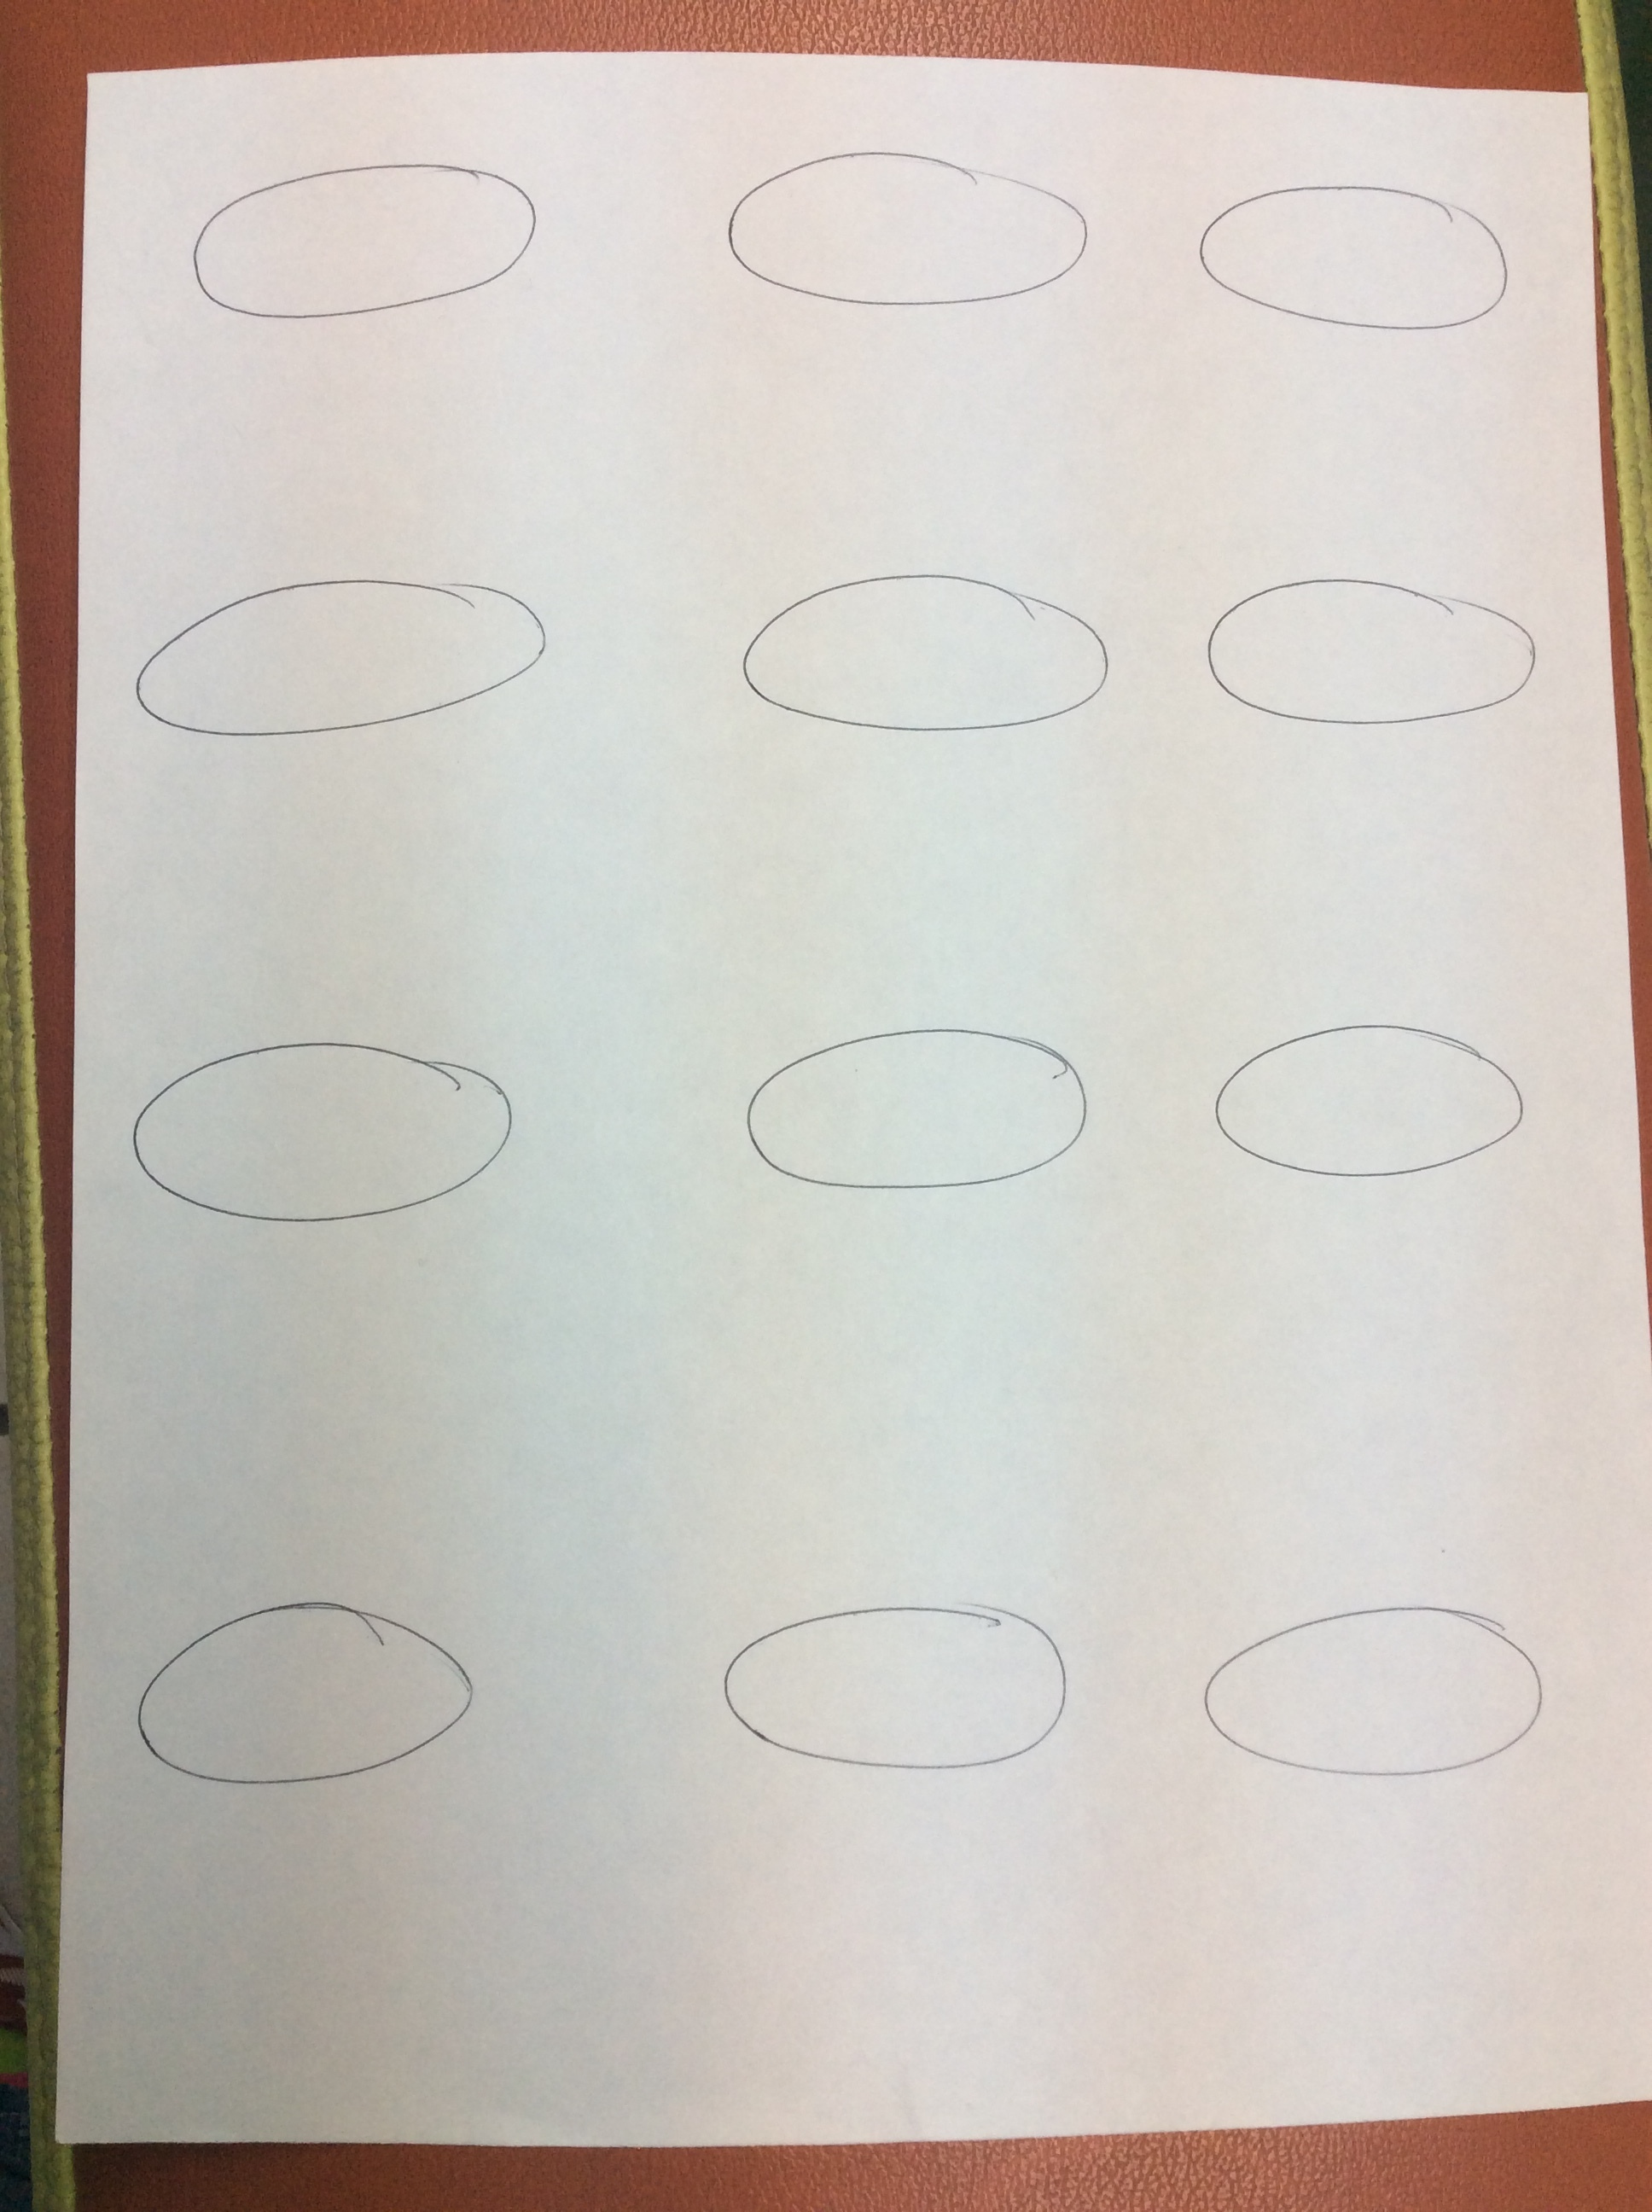start_end: (108, 1010, 531, 1260), (97, 546, 566, 758), (701, 536, 1135, 762), (687, 1567, 1090, 1810), (1170, 1570, 1565, 1810), (1192, 529, 1551, 789), (115, 1563, 493, 1806), (708, 1003, 1111, 1218), (161, 137, 566, 349), (691, 127, 1107, 328), (1183, 994, 1548, 1211), (1192, 147, 1527, 359)
